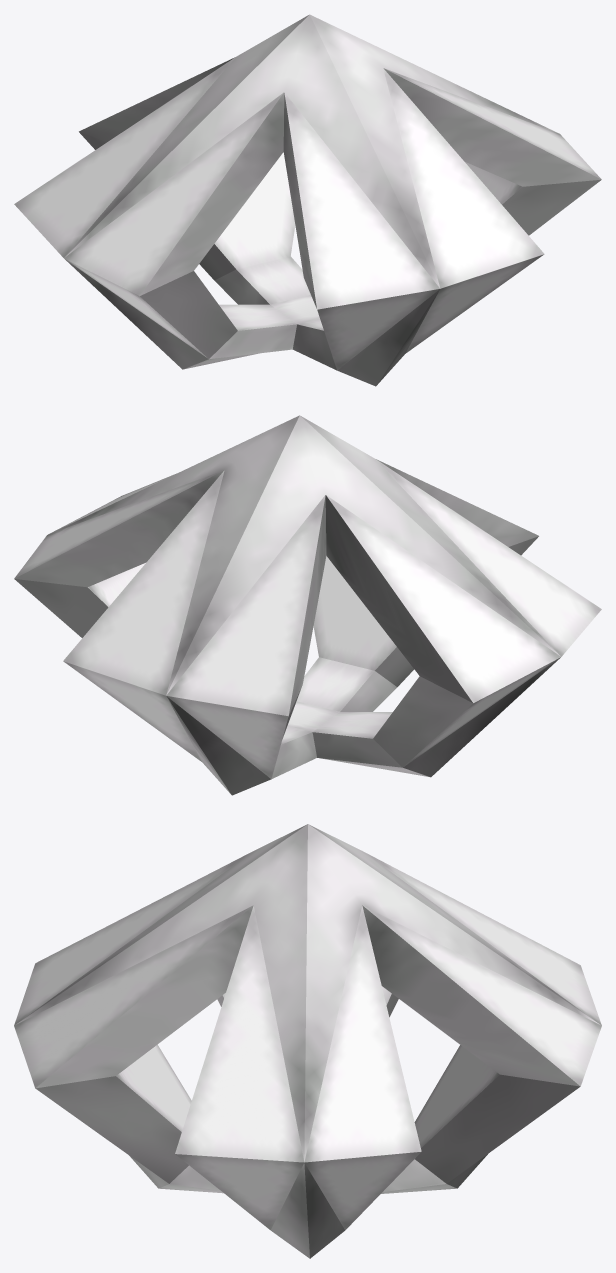
The model's file is ui_mission_critical.fbx.
3 views of the same model, one above another, from view 1: azimuth 30°, elevation 25°; view 2: azimuth 150°, elevation 25°; view 3: azimuth 270°, elevation 25° (orthographic). The views are drawn at different scales.
Visible parts, largest first — view 1: mesh_node; view 2: mesh_node; view 3: mesh_node.
Boxes of the visible parts, bbox=[...] form: mesh_node: bbox=[14, 14, 601, 386]; mesh_node: bbox=[14, 415, 601, 795]; mesh_node: bbox=[14, 824, 601, 1258].
Size of the model in its own units: 1.62 by 1.02 by 1.47.
1 material, 1 textured.
